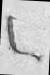F21: (3, 0, 48, 74)
